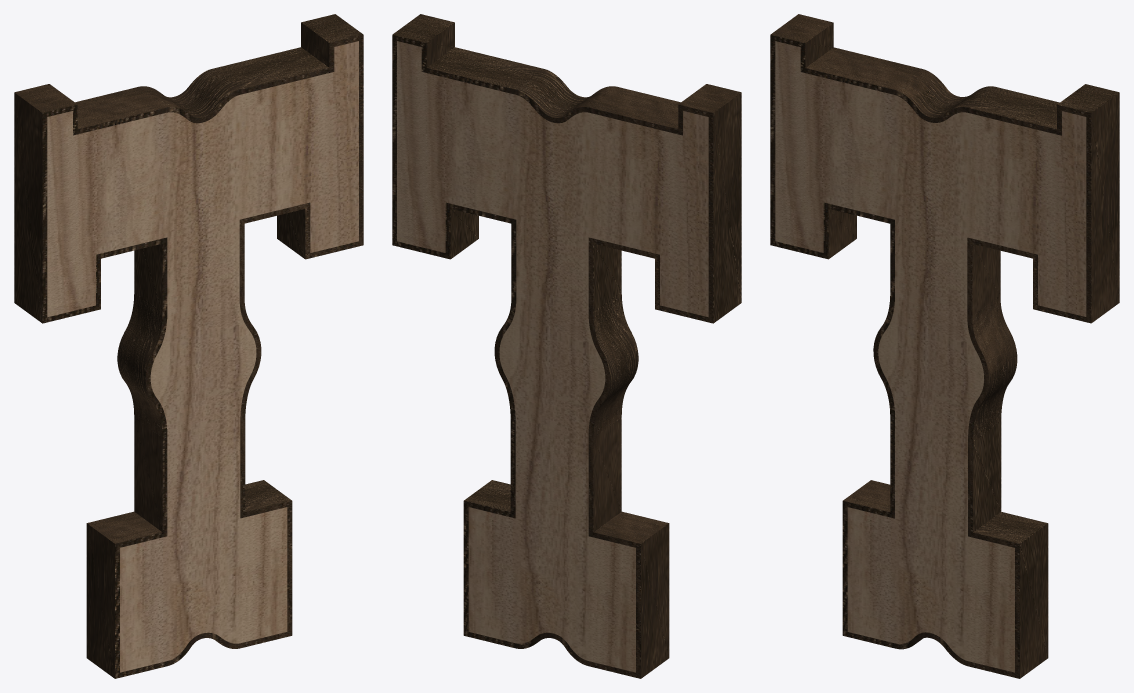
The picture shows the model from 3 angles, left to right: view 1: azimuth 30°, elevation 25°; view 2: azimuth 150°, elevation 25°; view 3: azimuth 330°, elevation 25°; orthographic projection.
Parts seen in each view (by area): view 1: T, T_outline; view 2: T, T_outline; view 3: T, T_outline.
Part boxes in pixels (bbox=[...]): T: bbox=[47, 41, 358, 672]; T_outline: bbox=[14, 14, 363, 678]; T: bbox=[397, 41, 708, 672]; T_outline: bbox=[392, 14, 741, 678]; T: bbox=[775, 41, 1086, 672]; T_outline: bbox=[770, 14, 1119, 678].
Size of the model in its own units: 65.45 by 114 by 10.
Materials: 2 (2 with a texture image).
